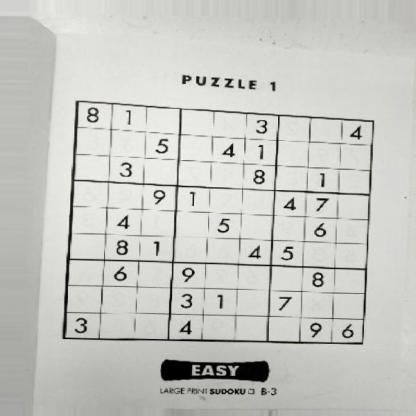sudoku: (59, 95, 378, 349)
